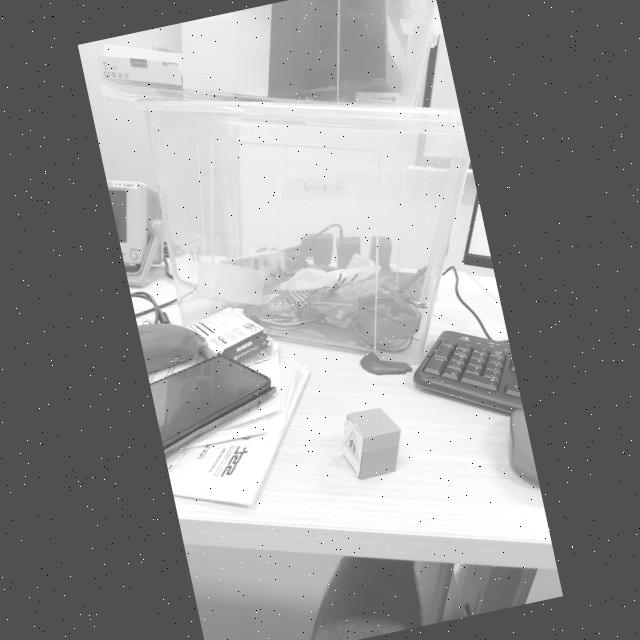Earthquake: (343, 430, 359, 461)
